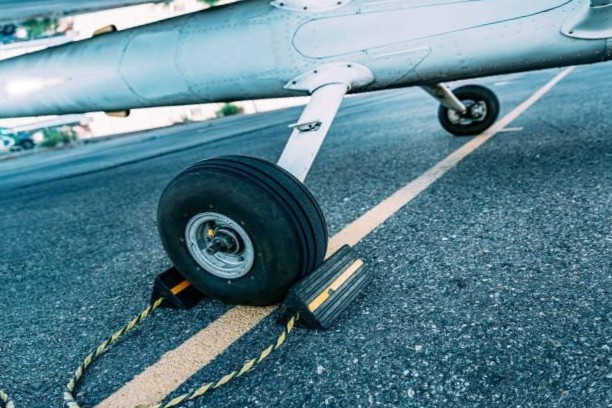chock: (263, 238, 385, 338), (142, 256, 223, 316)
wheel: (146, 141, 339, 321), (434, 77, 507, 141)
